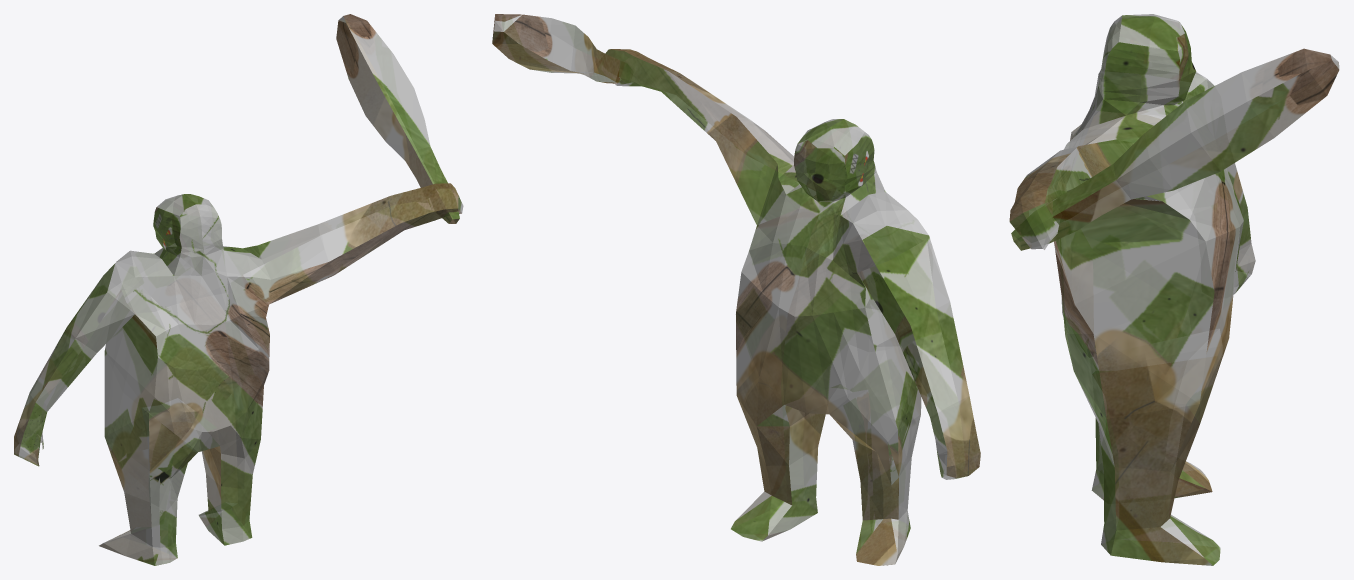
The model's file is Enemigo27.obj.
3 views of the same model, side by side, from view 1: azimuth 30°, elevation 25°; view 2: azimuth 150°, elevation 25°; view 3: azimuth 270°, elevation 25° (orthographic). The views are drawn at different scales.
Parts seen in each view (by area): view 1: Cube; view 2: Cube; view 3: Cube.
Part boxes in pixels (x1,y1,x2,y2): Cube: (14, 14, 463, 565); Cube: (492, 14, 980, 565); Cube: (1009, 14, 1339, 565).
Bounding box in the file's own units: 3.14 × 3.33 × 1.59.
Materials: 1 (1 with a texture image).
